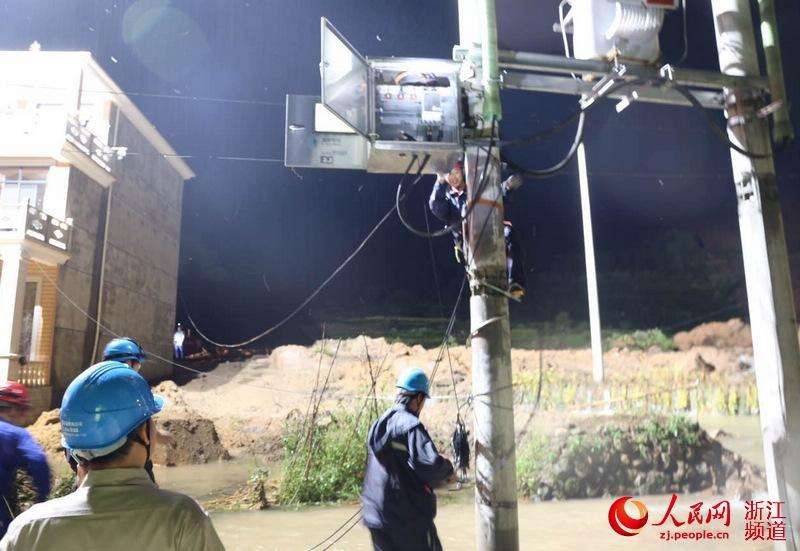blue: (57, 361, 157, 477), (100, 336, 143, 375), (393, 367, 428, 413)
red: (2, 378, 29, 422)
